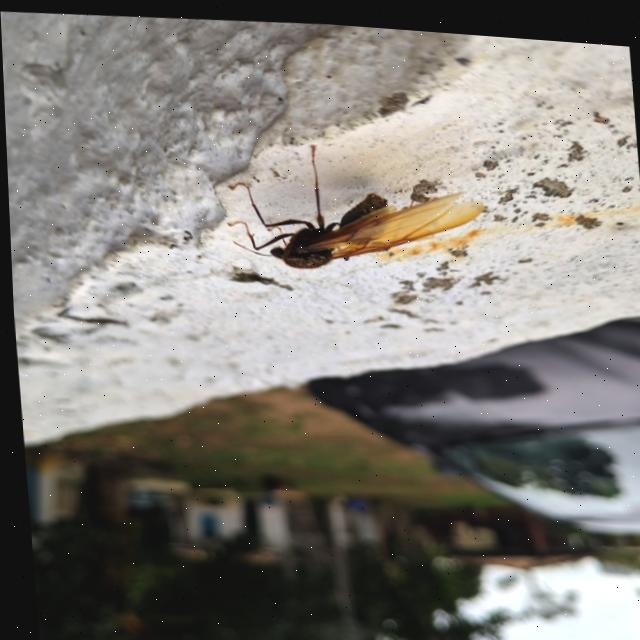Alive-Male-Alate: (218, 128, 488, 278)
